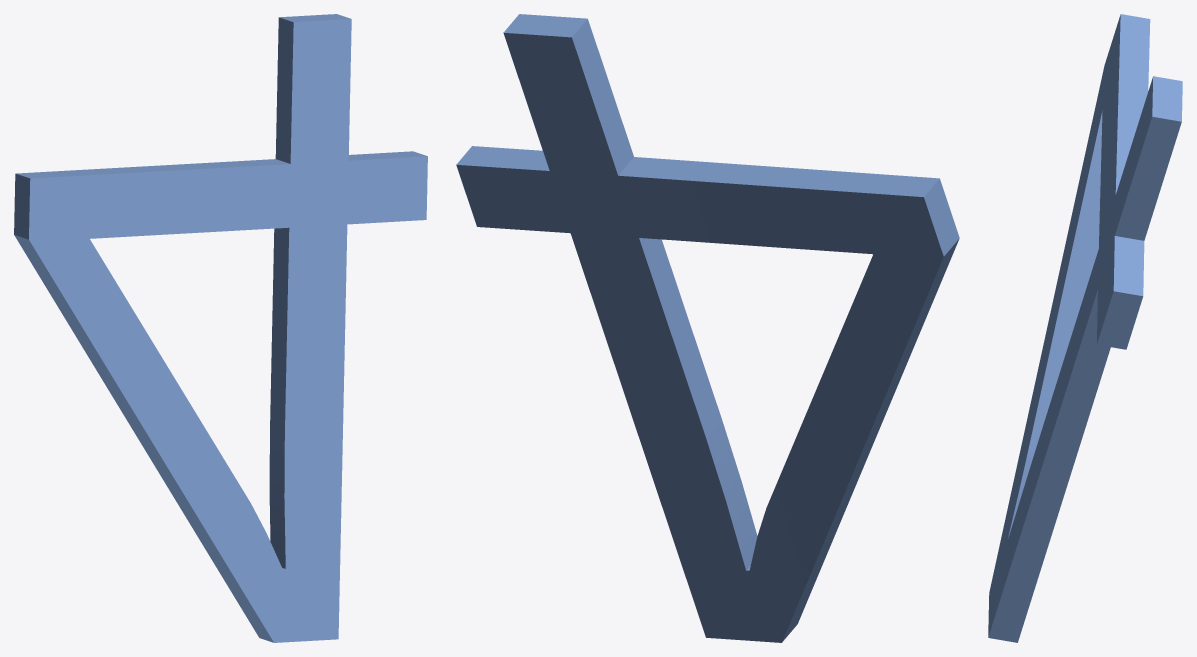
File: New_Number_4.gltf
3 views of the same model, side by side, from view 1: azimuth 30°, elevation 25°; view 2: azimuth 150°, elevation 25°; view 3: azimuth 270°, elevation 25° (orthographic). The views are drawn at different scales.
Parts seen in each view (by area): view 1: Part 490; view 2: Part 490; view 3: Part 490.
Boxes of the visible parts, x1=… form: Part 490: x1=14, y1=14, x2=427, y2=642; Part 490: x1=456, y1=14, x2=959, y2=642; Part 490: x1=988, y1=14, x2=1182, y2=642.
Bounding box in the file's own units: 0.00412 × 0.00542 × 0.00164.
